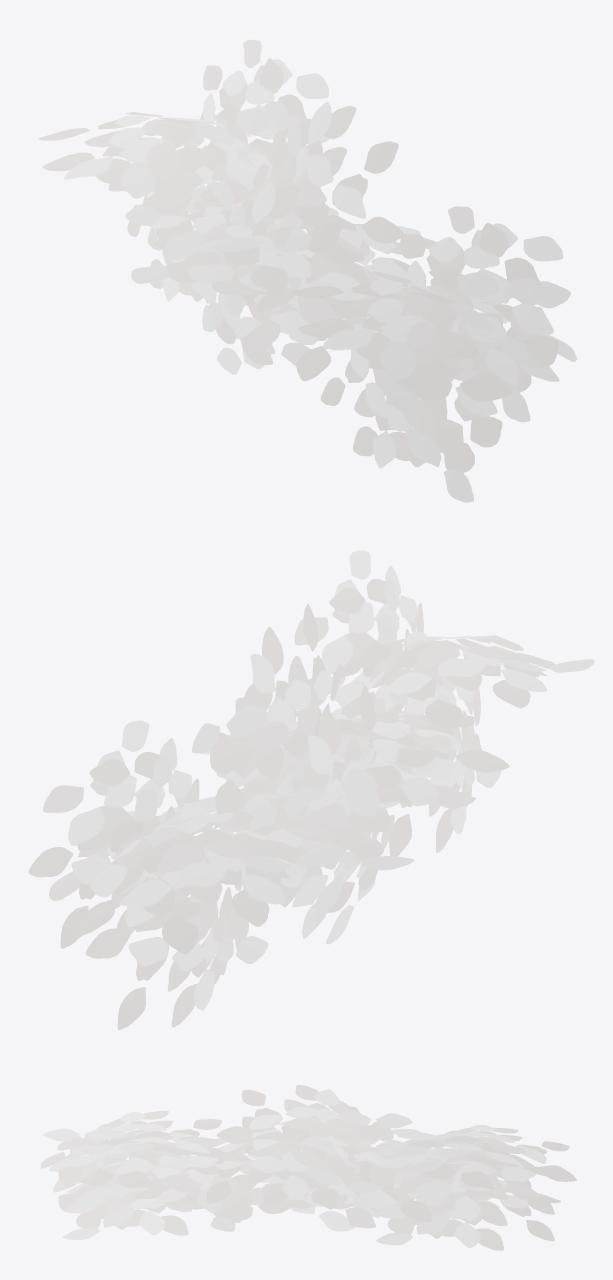
The model's file is PotPlantWide.fbx.
3 renders of one model, top to bottom at view 1: azimuth 30°, elevation 25°; view 2: azimuth 150°, elevation 25°; view 3: azimuth 270°, elevation 25°, orthographic. The views are drawn at different scales.
Visible parts, largest first — view 1: PotPlantLong; view 2: PotPlantLong; view 3: PotPlantLong.
Boxes of the visible parts, x1=… form: PotPlantLong: x1=38, y1=39, x2=576, y2=502; PotPlantLong: x1=28, y1=550, x2=594, y2=1029; PotPlantLong: x1=40, y1=1084, x2=576, y2=1250.
Size of the model in its own units: 61.16 by 63.11 by 159.
